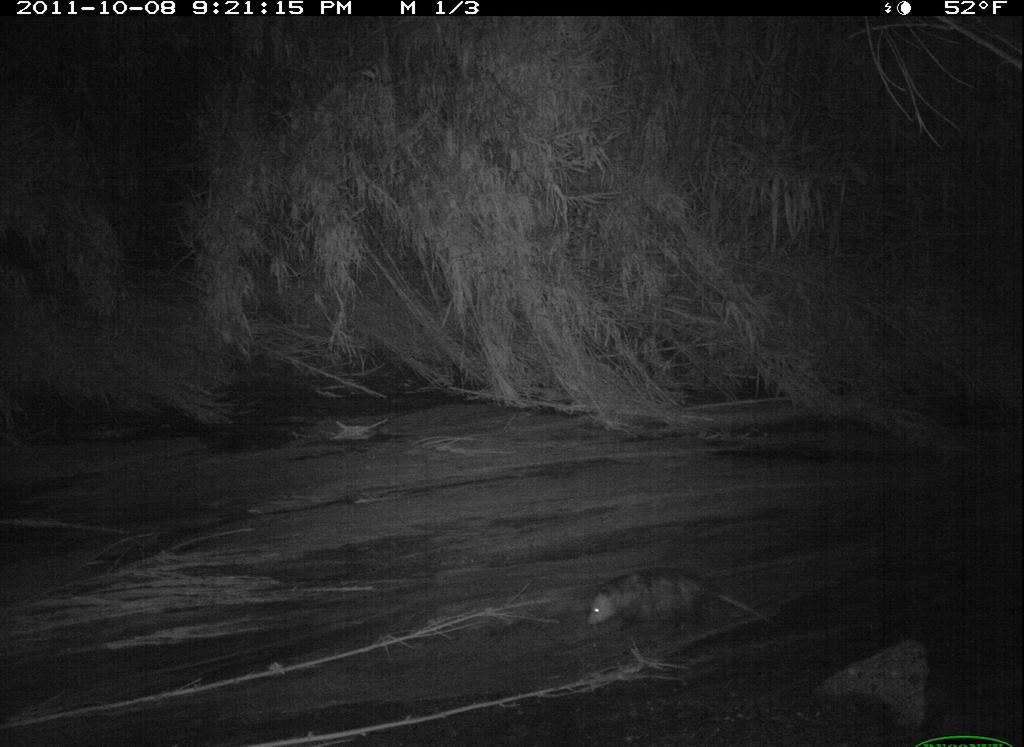opossum: (582, 566, 785, 655)
